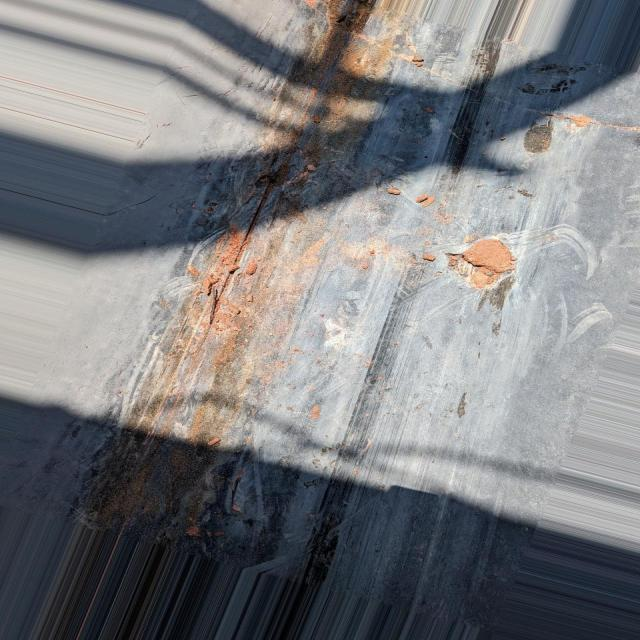impact damage: (66, 0, 408, 551)
